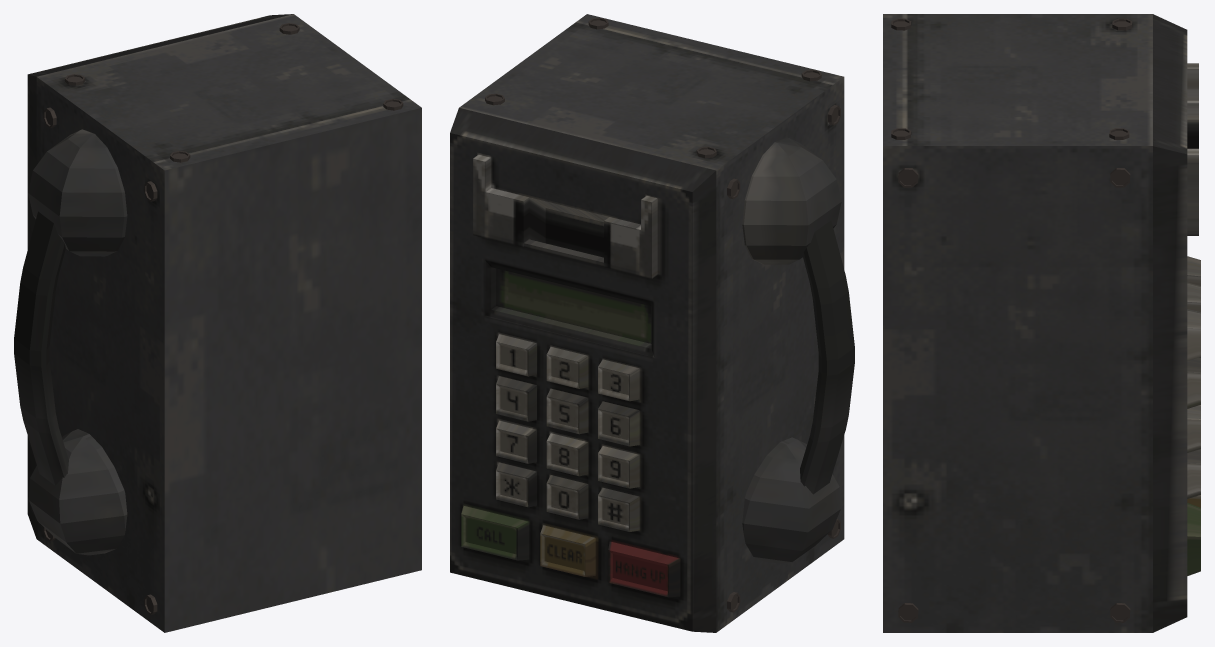
3 views of the same model, side by side, from view 1: azimuth 30°, elevation 25°; view 2: azimuth 150°, elevation 25°; view 3: azimuth 270°, elevation 25° (orthographic). The views are drawn at different scales.
Visible parts, largest first — view 1: box_0, phone_1; view 2: box_0, phone_1; view 3: box_0.
Part boxes in pixels (box(x1,y1,x2,y2)): box_0: box(27, 14, 421, 632); phone_1: box(14, 129, 127, 555); box_0: box(450, 14, 844, 632); phone_1: box(742, 137, 854, 563); box_0: box(883, 14, 1200, 632).
Size of the model in its own units: 2.11 by 2.81 by 1.65.
Materials: 2 (1 with a texture image).
